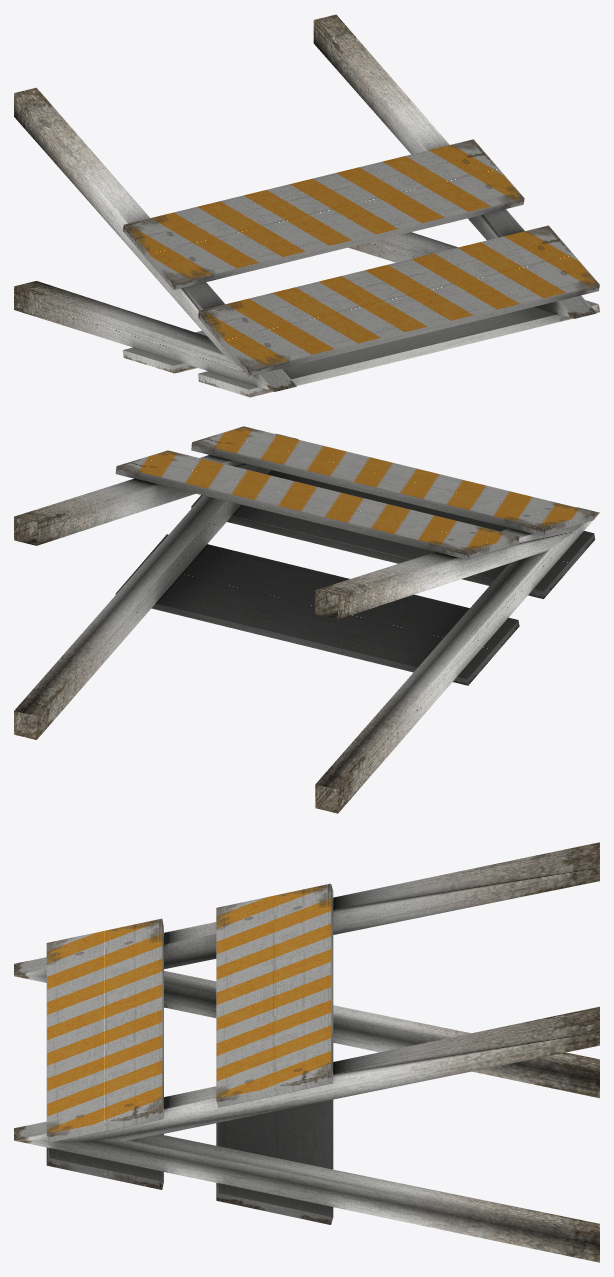
Rendered from barrier_smallwooden.fbx.
3 renders of one model, top to bottom at view 1: azimuth 30°, elevation 25°; view 2: azimuth 150°, elevation 25°; view 3: azimuth 270°, elevation 25°, orthographic. The views are drawn at different scales.
Parts seen in each view (by area): view 1: barrier_smallwooden; view 2: barrier_smallwooden; view 3: barrier_smallwooden.
Part boxes in pixels (bbox=[...]): barrier_smallwooden: bbox=[14, 14, 599, 397]; barrier_smallwooden: bbox=[14, 426, 599, 813]; barrier_smallwooden: bbox=[14, 842, 599, 1262].
Bounding box in the file's own units: 0.775 × 0.459 × 1.
